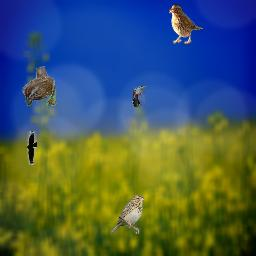Crow: (27, 131, 37, 165)
Cuckoo: (132, 86, 146, 107)
Sparrow: (22, 66, 57, 106), (169, 4, 203, 44), (110, 194, 144, 234)
